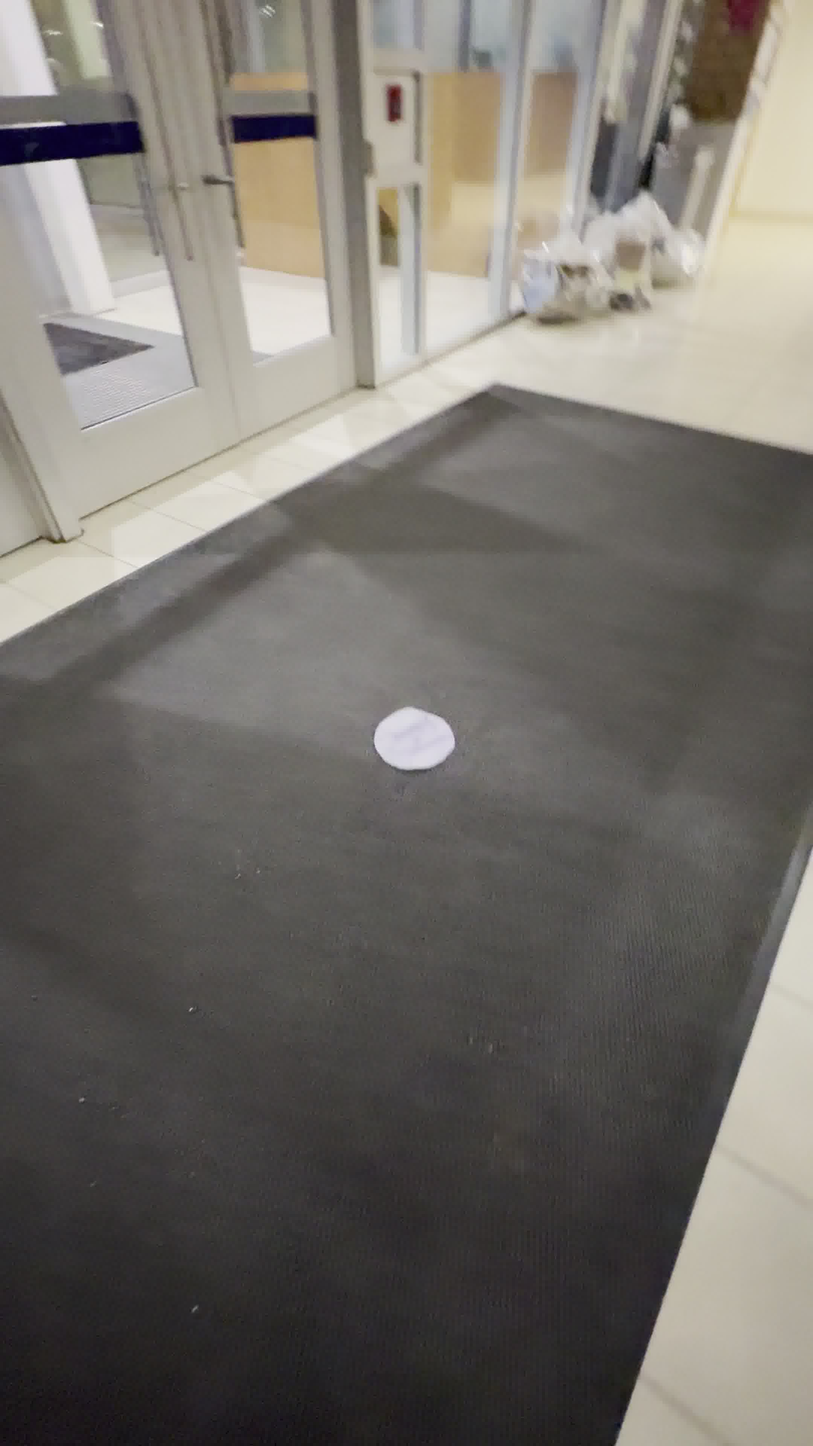Target: (372, 706, 456, 771)
